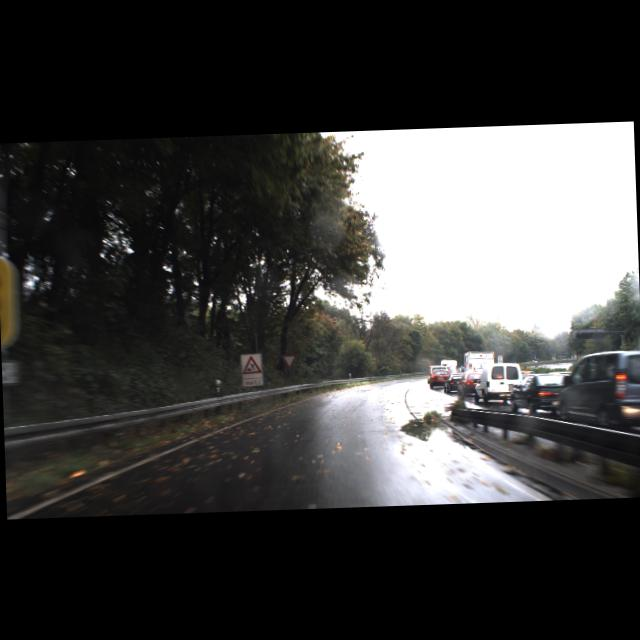danger: (241, 355, 262, 374)
other: (280, 353, 298, 369)
